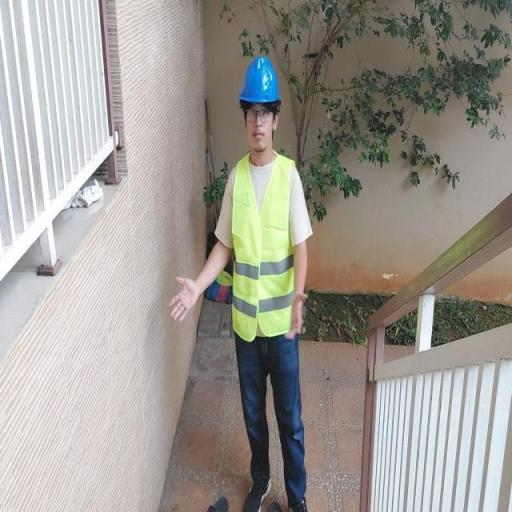Person: (173, 28, 342, 506)
helmet: (235, 46, 284, 108)
vest: (218, 148, 311, 346)
